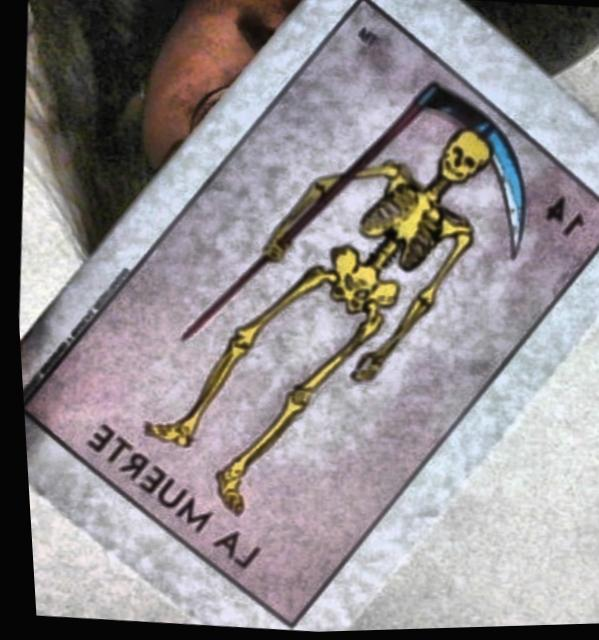La Muerte: (19, 1, 599, 628)
